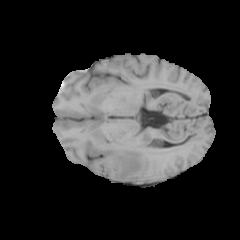glioma: (88, 141, 160, 183)
